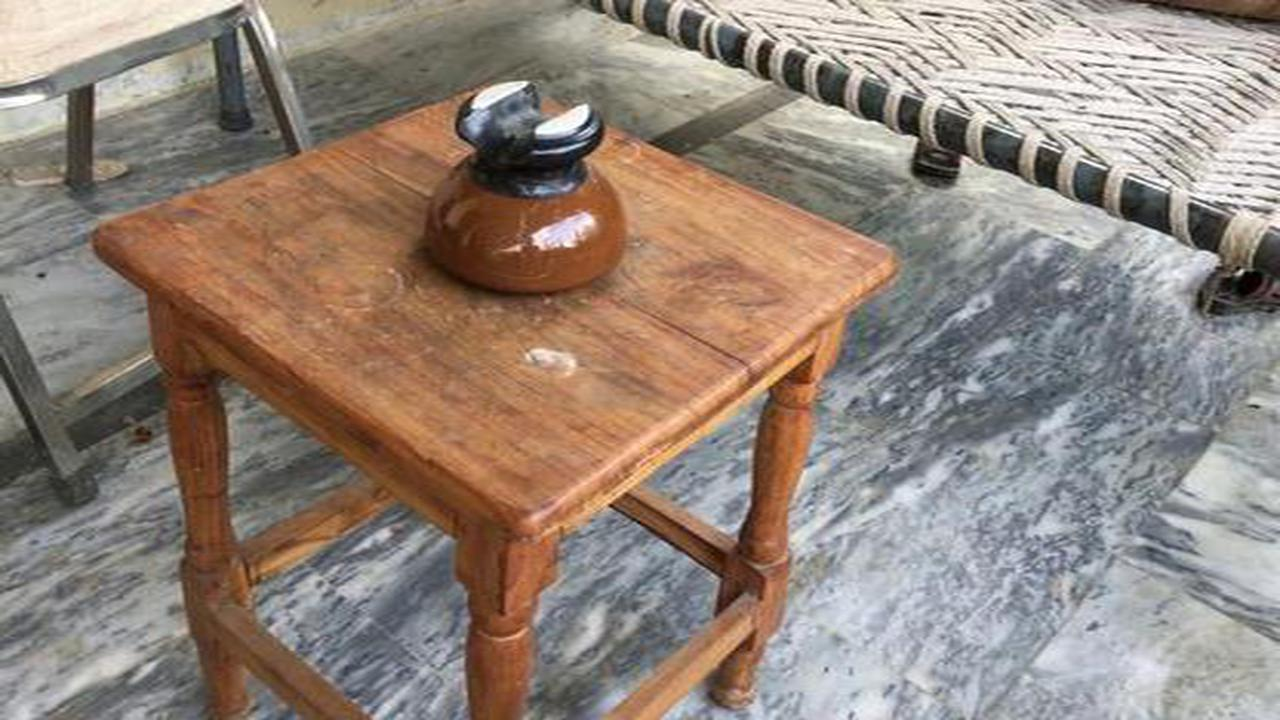insulator_pin: (407, 65, 644, 300)
